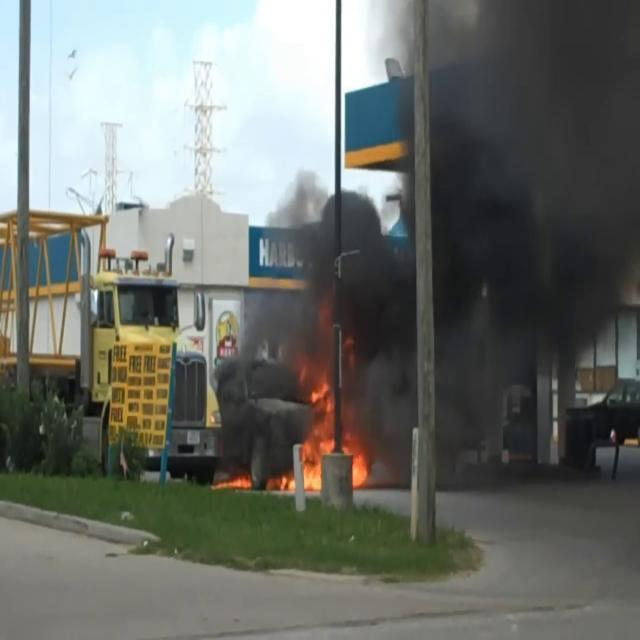Fire: (288, 366, 370, 495), (215, 466, 254, 493)
Smoke: (221, 0, 639, 445)
